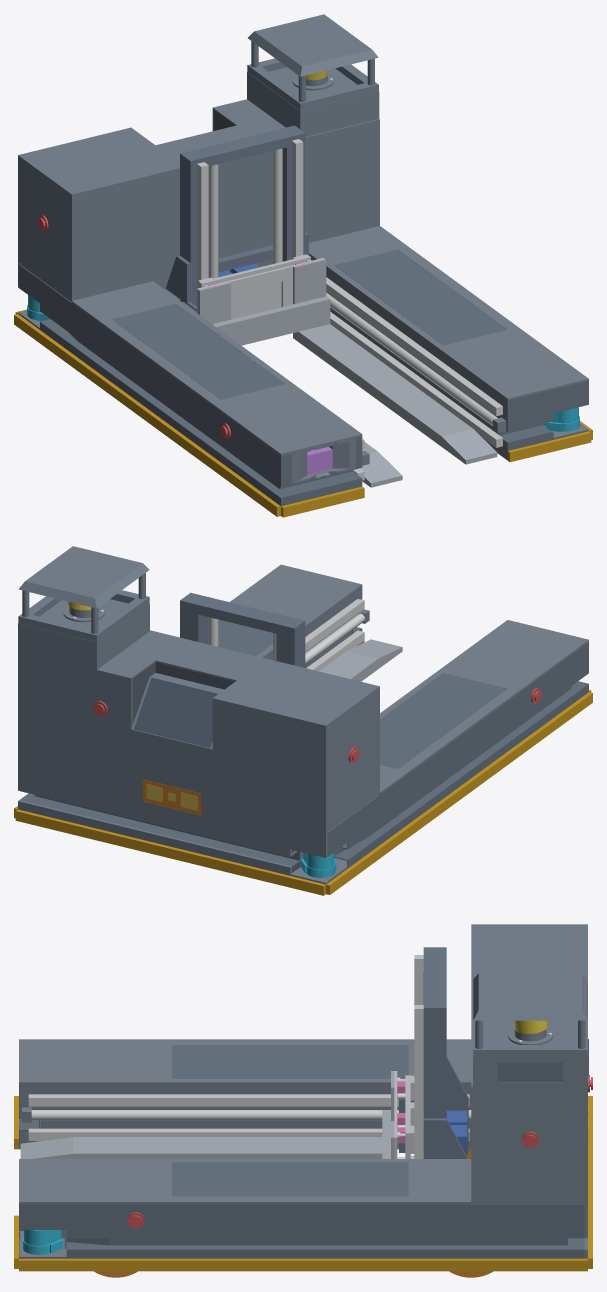
The model's file is hd30_1500kg_fork.glb.
3 views of the same model, one above another, from view 1: azimuth 30°, elevation 25°; view 2: azimuth 150°, elevation 25°; view 3: azimuth 270°, elevation 25° (orthographic). The views are drawn at different scales.
Visible parts, largest first — view 1: rear_tower_front_skin_4t, pod_top_R, pod_top_L, fork_tine_L, chassis_skin_R_up, pod_hatch_L_6t, pod_hatch_R_6t, tower_deck_R_6t, rear_upper_cowl_R, tower_armor_roof_8t, tower_upper_shroud_L, bumper_side_R (+29 smaller); view 2: rear_backplate_up_10t, pod_top_R, chassis_skin_R_up, tower_deck_R_6t, pod_hatch_R_6t, rear_upper_cowl_R, tower_armor_roof_8t, tower_upper_shroud_L, pod_top_L, rear_hmi_10in, bumper_rear, bumper_side_R (+23 smaller); view 3: chassis_skin_L_up, pod_top_L, rear_upper_cowl_L, pod_top_R, pod_inner_wall_R_12t, pod_hatch_L_6t, fork_tine_R, pod_hatch_R_6t, bumper_side_L, tower_deck_R_6t, tower_armor_roof_8t, chassis_skin_L_low (+20 smaller).
Boxes of the visible parts, <box> form: rear_tower_front_skin_4t: <box>72,121,379,300</box>; pod_top_R: <box>72,281,362,455</box>; pod_top_L: <box>309,226,588,400</box>; fork_tine_L: <box>293,259,497,464</box>; chassis_skin_R_up: <box>19,264,280,486</box>; pod_hatch_L_6t: <box>334,249,506,345</box>; pod_hatch_R_6t: <box>112,304,284,399</box>; tower_deck_R_6t: <box>18,127,179,195</box>; rear_upper_cowl_R: <box>19,158,72,300</box>; tower_armor_roof_8t: <box>248,14,378,76</box>; tower_upper_shroud_L: <box>247,67,379,136</box>; bumper_side_R: <box>14,314,280,516</box>; rear_backplate_up_10t: <box>18,652,327,857</box>; pod_top_R: <box>379,620,588,794</box>; chassis_skin_R_up: <box>327,642,588,856</box>; tower_deck_R_6t: <box>212,659,379,727</box>; pod_hatch_R_6t: <box>380,673,506,768</box>; rear_upper_cowl_R: <box>327,688,379,830</box>; tower_armor_roof_8t: <box>18,546,149,608</box>; tower_upper_shroud_L: <box>18,599,149,669</box>; pod_top_L: <box>218,564,362,657</box>; rear_hmi_10in: <box>134,677,217,747</box>; bumper_rear: <box>15,809,325,895</box>; bumper_side_R: <box>326,692,592,894</box>; chassis_skin_L_up: <box>20,1204,584,1237</box>; pod_top_L: <box>19,1159,471,1204</box>; rear_upper_cowl_L: <box>471,1088,584,1201</box>; pod_top_R: <box>19,1039,471,1084</box>; pod_inner_wall_R_12t: <box>20,1084,471,1145</box>; pod_hatch_L_6t: <box>172,1162,408,1196</box>; fork_tine_R: <box>20,1071,394,1158</box>; pod_hatch_R_6t: <box>172,1045,408,1078</box>; bumper_side_L: <box>19,1258,587,1271</box>; tower_deck_R_6t: <box>471,924,587,985</box>; tower_armor_roof_8t: <box>473,973,587,1020</box>; chassis_skin_L_low: <box>20,1250,584,1258</box>.
Size of the model in its own units: 1.2 by 0.945 by 1.76.
